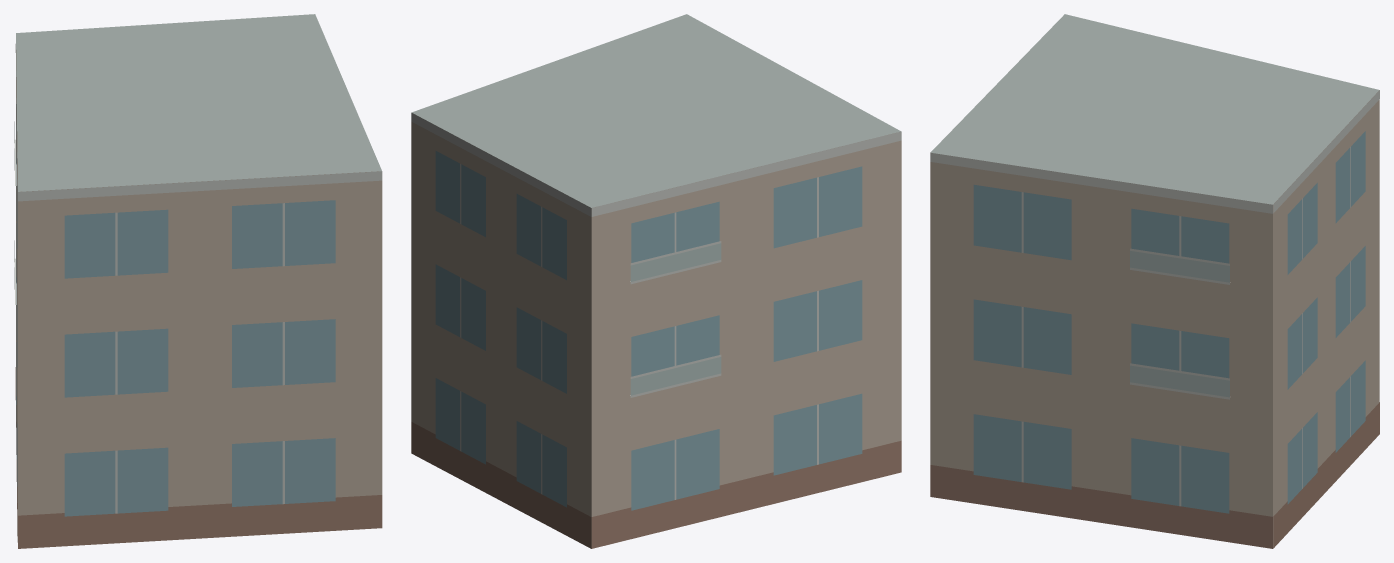
The model's file is survey-upis-33028821.glb.
3 views of the same model, side by side, from view 1: azimuth 30°, elevation 25°; view 2: azimuth 150°, elevation 25°; view 3: azimuth 270°, elevation 25° (orthographic). The views are drawn at different scales.
Parts seen in each view (by area): view 1: survey-upis-33028821.tmp; view 2: survey-upis-33028821.tmp; view 3: survey-upis-33028821.tmp.
Boxes of the visible parts, box(x1,y1,x2,y2) form: survey-upis-33028821.tmp: box(14, 14, 382, 548); survey-upis-33028821.tmp: box(411, 14, 901, 548); survey-upis-33028821.tmp: box(930, 14, 1379, 548).
Bounding box in the file's own units: 10.88 × 9.15 × 10.84.
